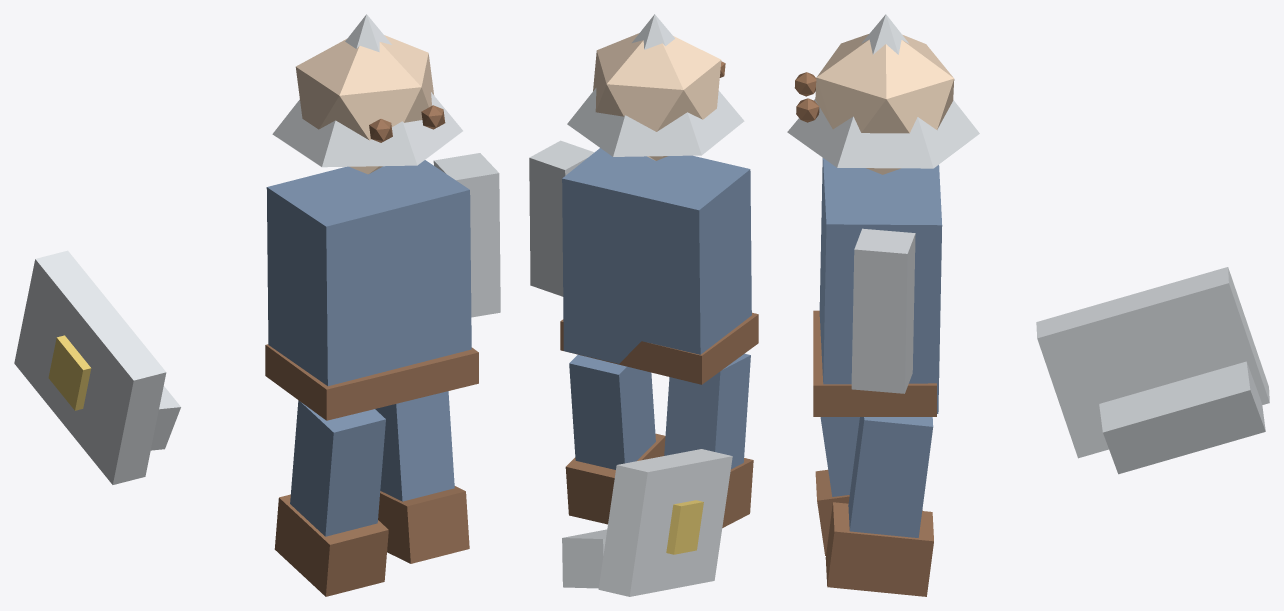
The model's file is npcpose_guard_attack_01.glb.
3 renders of one model, left to right at view 1: azimuth 30°, elevation 25°; view 2: azimuth 150°, elevation 25°; view 3: azimuth 270°, elevation 25°, orthographic. The views are drawn at different scales.
Parts seen in each view (by area): view 1: npcpose; view 2: npcpose; view 3: npcpose.
Part boxes in pixels (<box>): npcpose: <box>14,14,500,596</box>; npcpose: <box>529,14,758,596</box>; npcpose: <box>787,14,1269,596</box>.
Size of the model in its own units: 0.8874 by 1.57 by 1.25.
